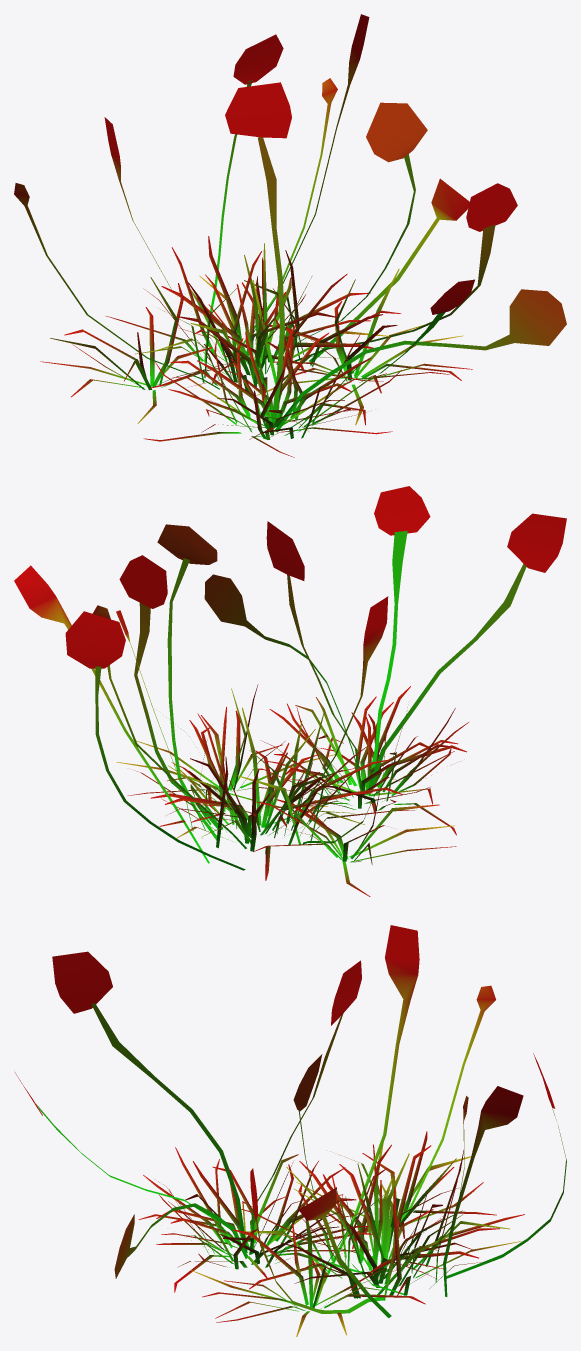
File: Var5_LOD3.fbx
The picture shows the model from 3 angles, top to bottom: view 1: azimuth 30°, elevation 25°; view 2: azimuth 150°, elevation 25°; view 3: azimuth 270°, elevation 25°; orthographic projection. The views are drawn at different scales.
Visible parts, largest first — view 1: _tx9k_Var5_LOD3; view 2: _tx9k_Var5_LOD3; view 3: _tx9k_Var5_LOD3.
Part boxes in pixels (x1=…): _tx9k_Var5_LOD3: x1=14, y1=14, x2=566, y2=457; _tx9k_Var5_LOD3: x1=14, y1=486, x2=566, y2=896; _tx9k_Var5_LOD3: x1=15, y1=925, x2=566, y2=1336.
Bounding box in the file's own units: 27.22 × 20.54 × 32.24.
